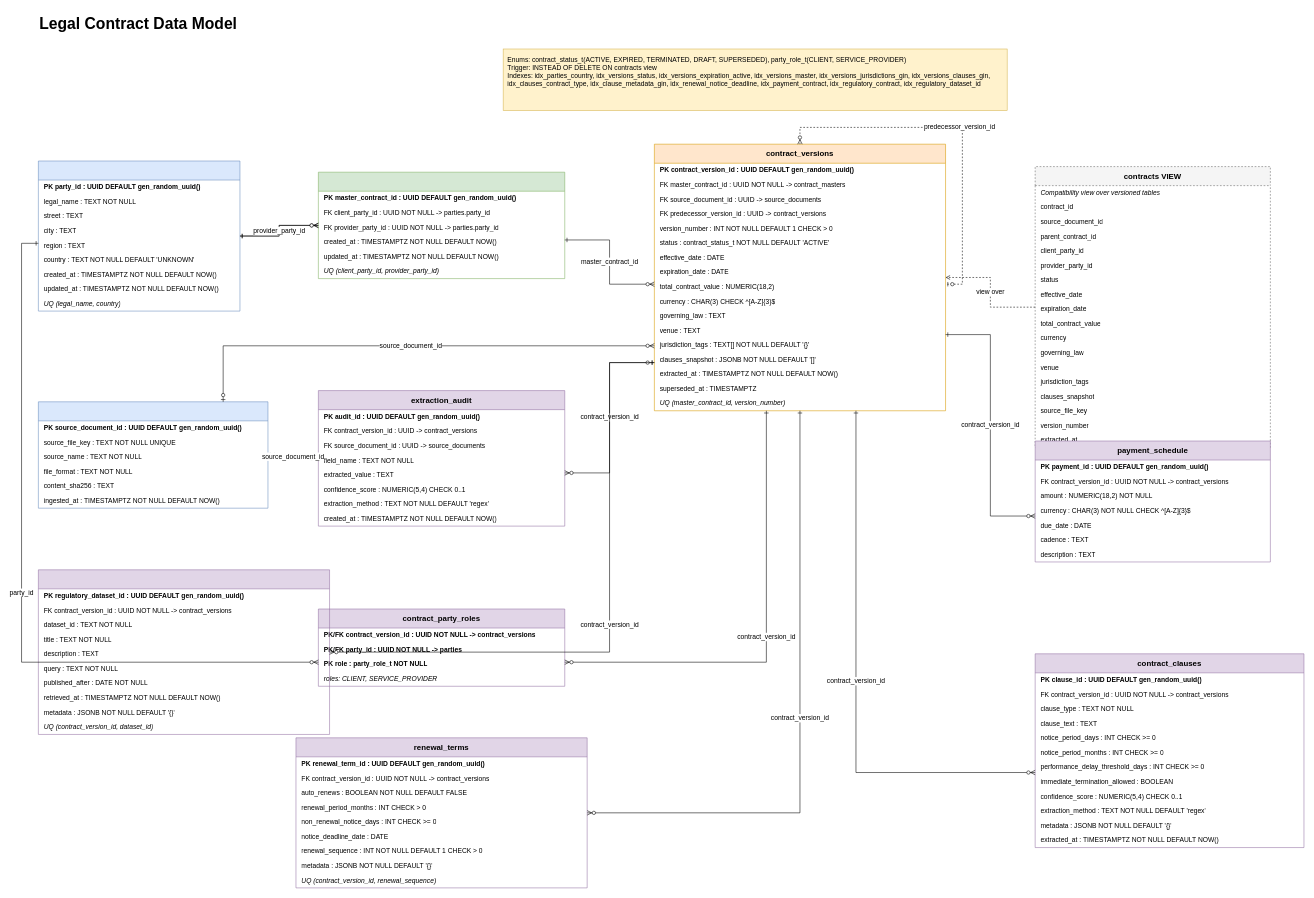
Some shapes in this 1314 by 898 pixel diagram are drawn without their labels. Each missing label, with the box of its shape:
contract_masters: (318, 172, 565, 279)
parties: (38, 160, 240, 311)
regulatory_datasets: (38, 569, 330, 734)
source_documents: (38, 401, 268, 508)
